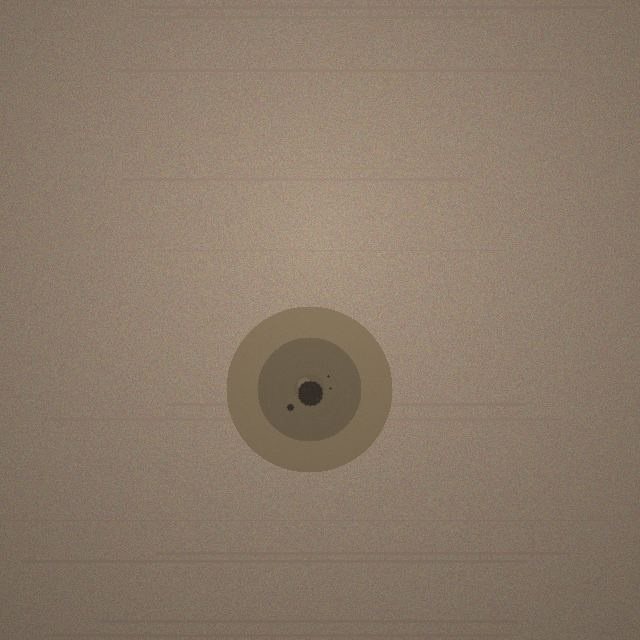shrinkage: (226, 306, 392, 472)
